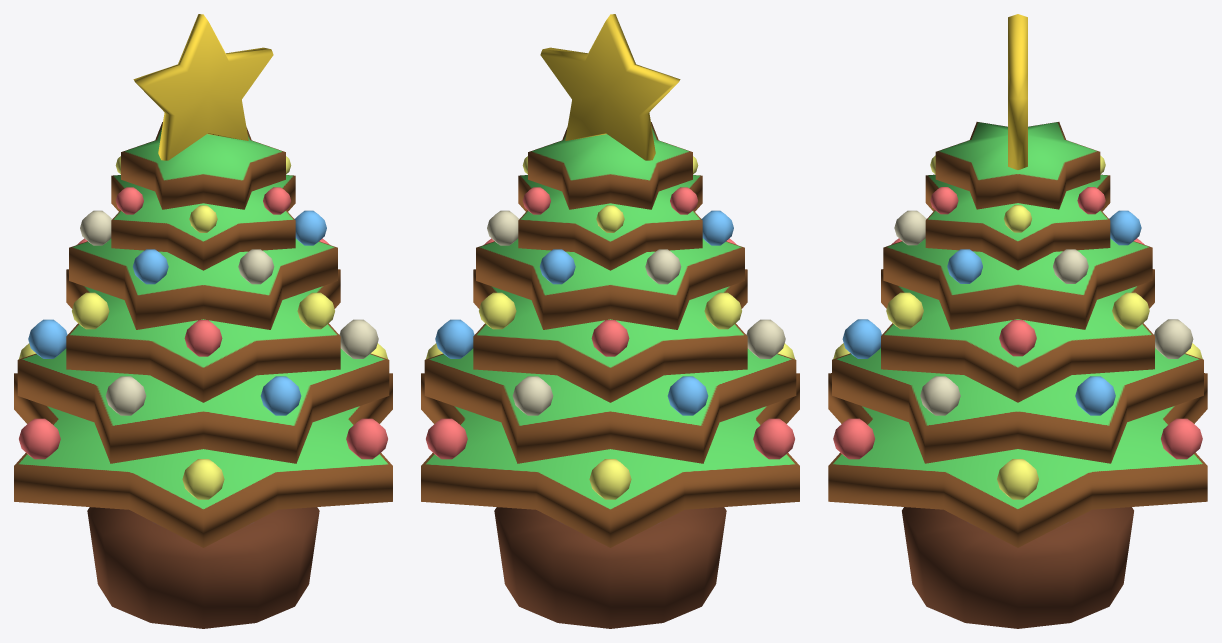
File: BigTree.fbx
3 views of the same model, side by side, from view 1: azimuth 30°, elevation 25°; view 2: azimuth 150°, elevation 25°; view 3: azimuth 270°, elevation 25° (orthographic).
Parts seen in each view (by area): view 1: Star6, Star5, Dodai, Star4, Star3, Top_Star, Star2, Star1, Ball_Yellow3 (×3), Ball_Red3 (×3), Ball_White3 (×2), Ball_Blue2 (×2) (+5 smaller); view 2: Star6, Star5, Dodai, Star4, Star3, Top_Star, Star2, Star1, Ball_Yellow2 (×3), Ball_Red2 (×3), Ball_White2 (×2), Ball_Blue1 (×2) (+5 smaller); view 3: Star6, Star5, Dodai, Star4, Star3, Star1, Star2, Top_Star, Ball_Red1 (×3), Ball_Yellow1 (×3), Ball_White1 (×2), Ball_Blue3 (×2) (+5 smaller).
Part boxes in pixels (box(x1,y1,x2,y2)): Star6: box(14, 373, 392, 547); Star5: box(17, 348, 389, 463); Dodai: box(87, 507, 319, 628); Star4: box(66, 269, 340, 402); Star3: box(69, 238, 337, 329); Top_Star: box(133, 14, 273, 160); Star2: box(111, 175, 295, 270); Star1: box(121, 122, 285, 209); Ball_Yellow3 (×3): box(182, 205, 334, 499); Ball_Red3 (×3): box(19, 187, 222, 459); Ball_White3 (×2): box(105, 249, 274, 415); Ball_Blue2 (×2): box(28, 249, 168, 358); Star6: box(421, 373, 799, 547); Star5: box(424, 348, 796, 463); Dodai: box(494, 507, 726, 628); Star4: box(473, 269, 747, 402); Star3: box(476, 238, 744, 329); Top_Star: box(540, 14, 680, 160); Star2: box(518, 175, 702, 270); Star1: box(528, 122, 692, 209); Ball_Yellow2 (×3): box(589, 205, 741, 499); Ball_Red2 (×3): box(426, 187, 629, 459); Ball_White2 (×2): box(512, 249, 681, 415); Ball_Blue1 (×2): box(435, 249, 575, 358); Star6: box(828, 373, 1207, 547); Star5: box(832, 347, 1203, 463); Dodai: box(902, 507, 1133, 628); Star4: box(881, 269, 1154, 402); Star3: box(883, 238, 1152, 329); Star1: box(935, 122, 1100, 209); Star2: box(925, 174, 1110, 270); Top_Star: box(1008, 14, 1027, 169); Ball_Red1 (×3): box(833, 187, 1036, 459); Ball_Yellow1 (×3): box(997, 205, 1149, 499); Ball_White1 (×2): box(920, 249, 1088, 415); Ball_Blue3 (×2): box(842, 249, 982, 358).
Size of the model in its own units: 43.13 by 61.99 by 37.35.
